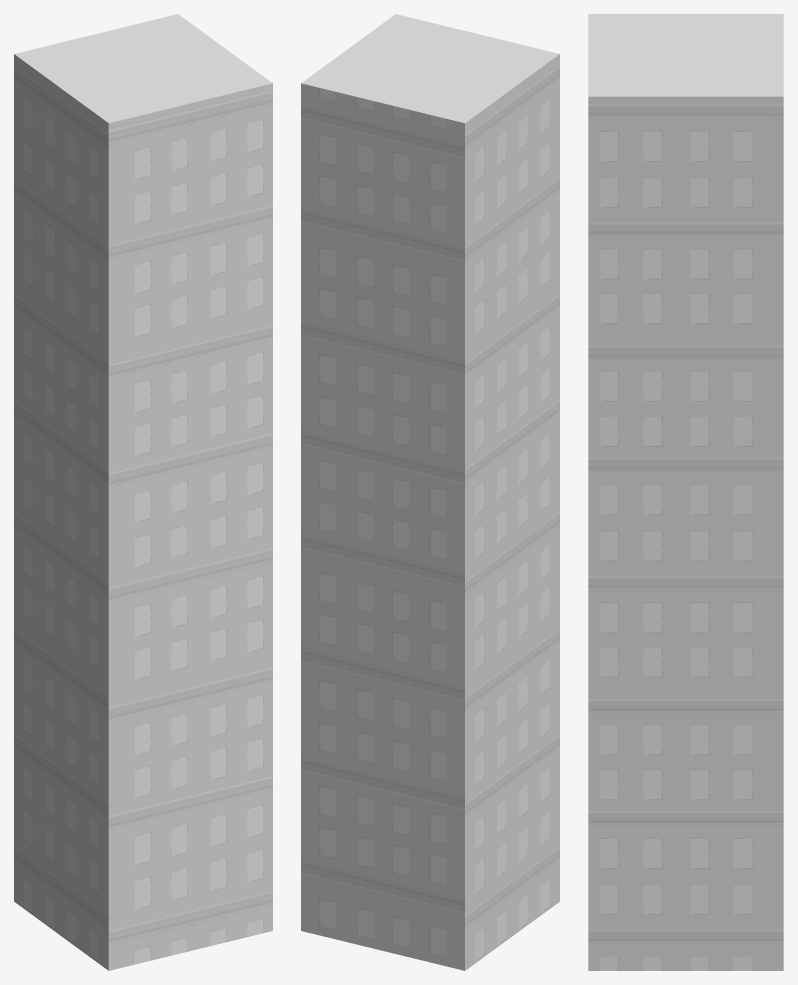
File: buildmesh.fbx
3 views of the same model, side by side, from view 1: azimuth 30°, elevation 25°; view 2: azimuth 150°, elevation 25°; view 3: azimuth 270°, elevation 25° (orthographic). The views are drawn at different scales.
Parts seen in each view (by area): view 1: Cube.002; view 2: Cube.002; view 3: Cube.002.
Part boxes in pixels (x1,y1,x2,y2): Cube.002: (14, 14, 272, 970); Cube.002: (301, 14, 559, 970); Cube.002: (588, 14, 783, 970).
Bounding box in the file's own units: 2722 × 13435 × 2722.
